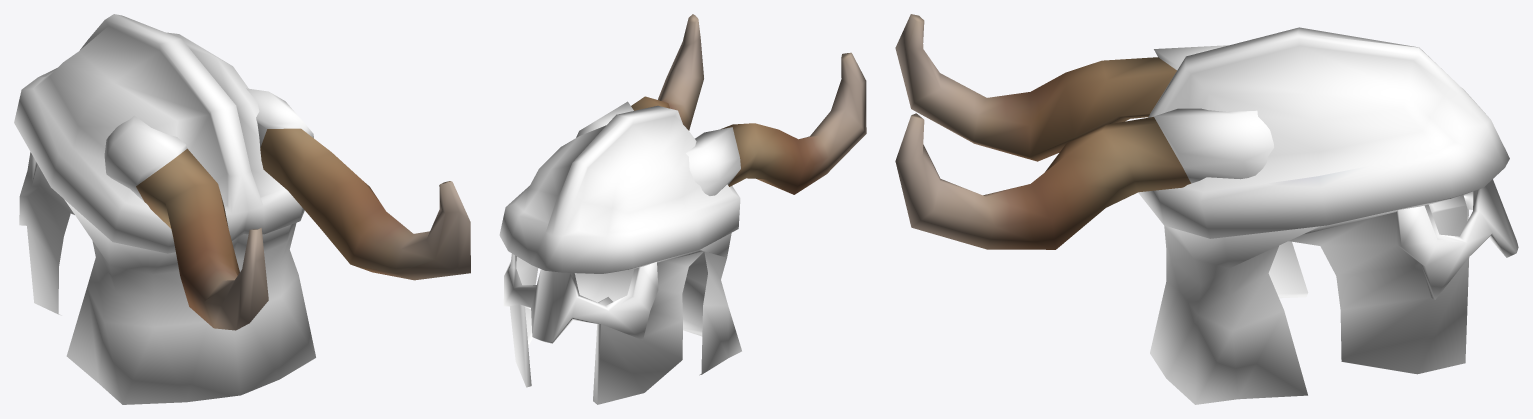
File: HelmetDrake.fbx
3 views of the same model, side by side, from view 1: azimuth 30°, elevation 25°; view 2: azimuth 150°, elevation 25°; view 3: azimuth 270°, elevation 25° (orthographic). The views are drawn at different scales.
Parts seen in each view (by area): view 1: attach; view 2: attach; view 3: attach.
Boxes of the visible parts, <box> form: attach: <box>14,14,470,404</box>; attach: <box>499,14,866,404</box>; attach: <box>895,14,1518,404</box>.
Size of the model in its own units: 0.2329 by 0.2782 by 0.4882.
Materials: 1 (1 with a texture image).
